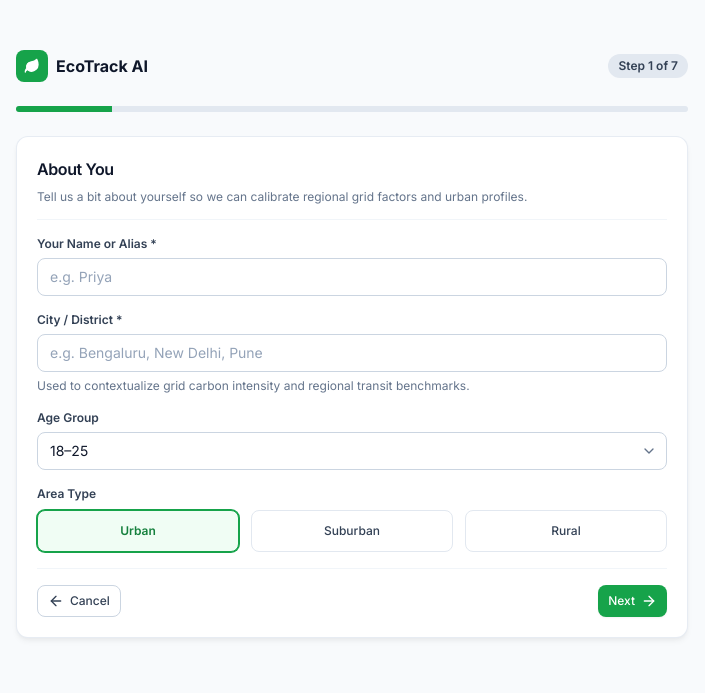
Test: Onboarding Flow Component › autosaves inputs to localStorage and advances to Step 2 upon valid input
Type "Arjun" into the field with placeholder "e.g. Priya" at (352,277), box [37,258,667,296]
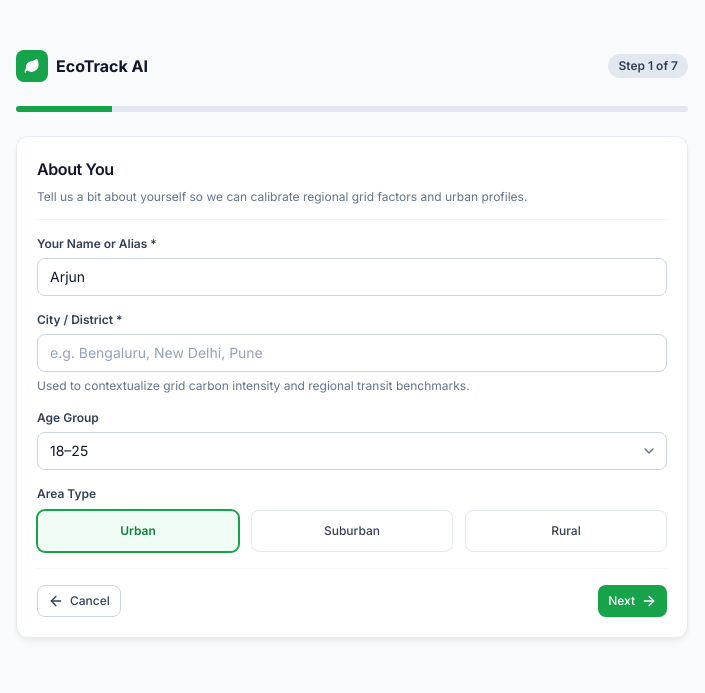
Type "Hyderabad" into the field with placeholder "e.g. Bengaluru, New Delhi, Pune" at (352,353), box [37,334,667,372]
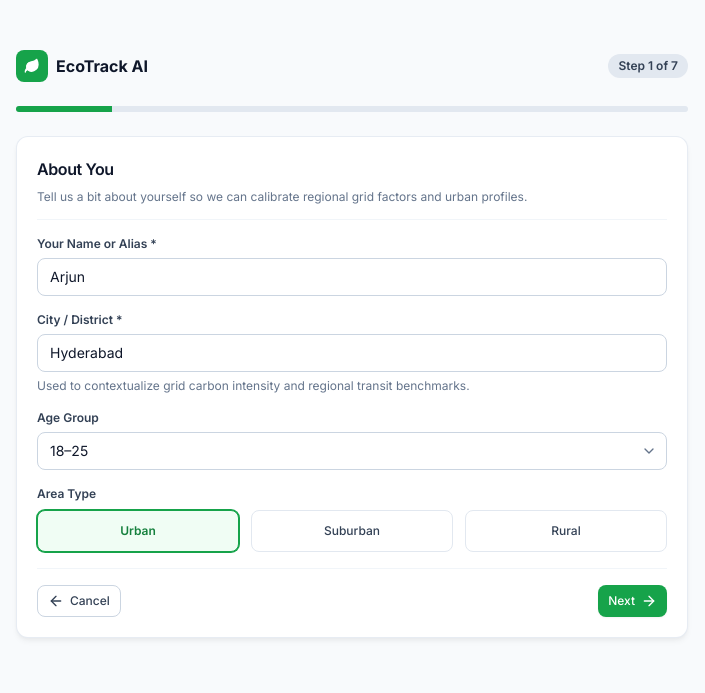
# Proceed to Step 2
Click the button "Next" at (633,601), box [598,585,667,617]
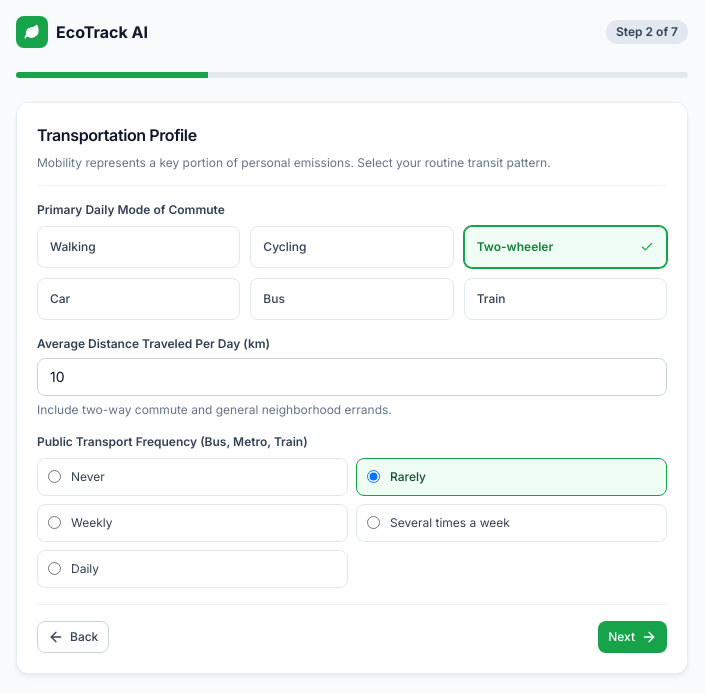
Result: the text "Step 2 of 7" is shown at [606,20,688,44]
Result: the heading "Transportation Profile" is shown at [37,125,197,145]
